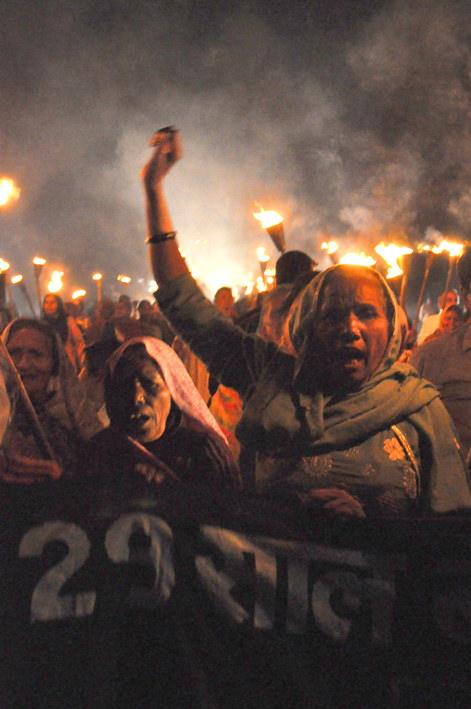fire: (383, 237, 408, 285), (257, 205, 292, 228), (342, 247, 375, 268)
